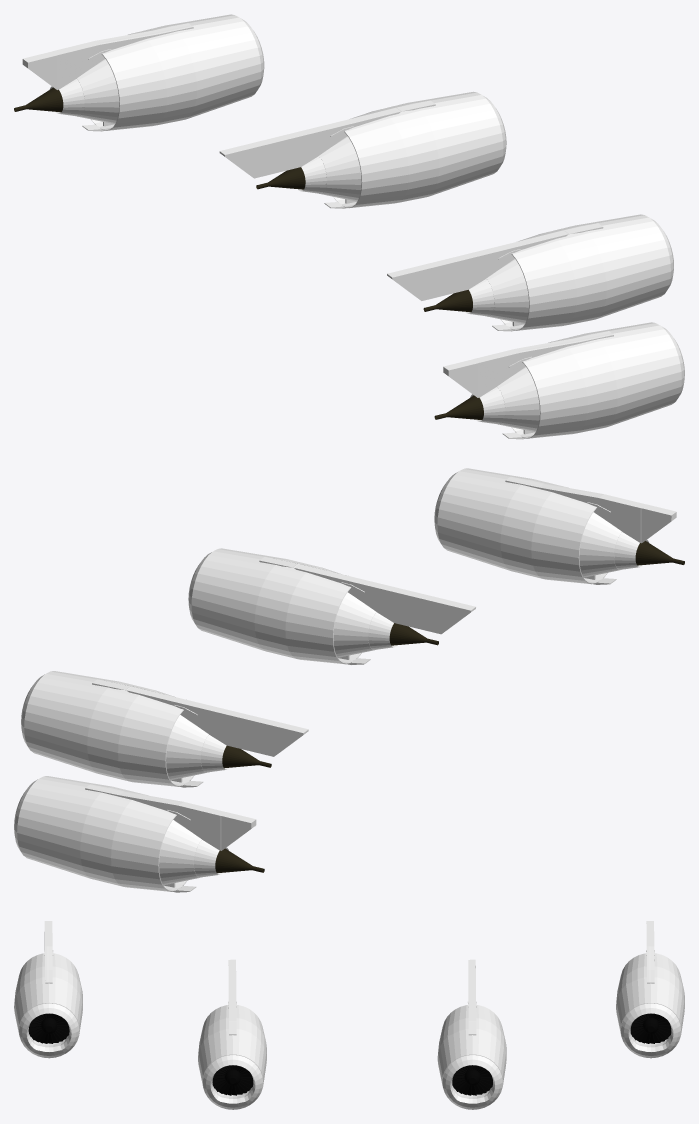
The picture shows the model from 3 angles, top to bottom: view 1: azimuth 30°, elevation 25°; view 2: azimuth 150°, elevation 25°; view 3: azimuth 270°, elevation 25°; orthographic projection. The views are drawn at different scales.
Parts seen in each view (by area): view 1: 立方体, 立方体.001, 立方体.002, 立方体.003, 円柱.008, 円柱.011, 円柱.004, 円柱.002; view 2: 立方体, 立方体.001, 立方体.002, 立方体.003, 円柱.008, 円柱.011, 円柱.002, 円柱.004; view 3: 立方体.001, 立方体, 立方体.003, 立方体.002, 円柱.003, 円柱.006, 円柱.010, 円柱.001, 円柱.009, 円柱.005, 円柱.012, 円柱.007.
Part boxes in pixels (box(x1,y1,x2,y2)): 立方体: box(219, 91, 502, 208); 立方体.001: box(387, 214, 670, 331); 立方体.002: box(22, 14, 260, 131); 立方体.003: box(443, 322, 680, 439); 円柱.008: box(14, 59, 119, 124); 円柱.011: box(434, 367, 539, 431); 円柱.004: box(256, 136, 361, 201); 円柱.002: box(423, 259, 528, 324); 立方体: box(24, 671, 308, 787); 立方体.001: box(192, 548, 475, 664); 立方体.002: box(17, 776, 256, 892); 立方体.003: box(438, 468, 676, 584); 円柱.008: box(159, 820, 264, 885); 円柱.011: box(579, 512, 684, 577); 円柱.002: box(333, 592, 438, 657); 円柱.004: box(166, 715, 271, 780); 立方体.001: box(198, 959, 266, 1098); 立方体: box(437, 959, 506, 1101); 立方体.003: box(14, 921, 82, 1048); 立方体.002: box(616, 921, 684, 1046); 円柱.003: box(442, 1055, 502, 1109); 円柱.006: box(620, 1003, 681, 1058); 円柱.010: box(19, 1003, 79, 1058); 円柱.001: box(202, 1055, 263, 1109); 円柱.009: box(630, 1013, 671, 1043); 円柱.005: box(212, 1065, 253, 1095); 円柱.012: box(28, 1013, 69, 1043); 円柱.007: box(452, 1065, 492, 1095).
Bounding box in the file's own units: 10.75 × 3.12 × 24.84.
